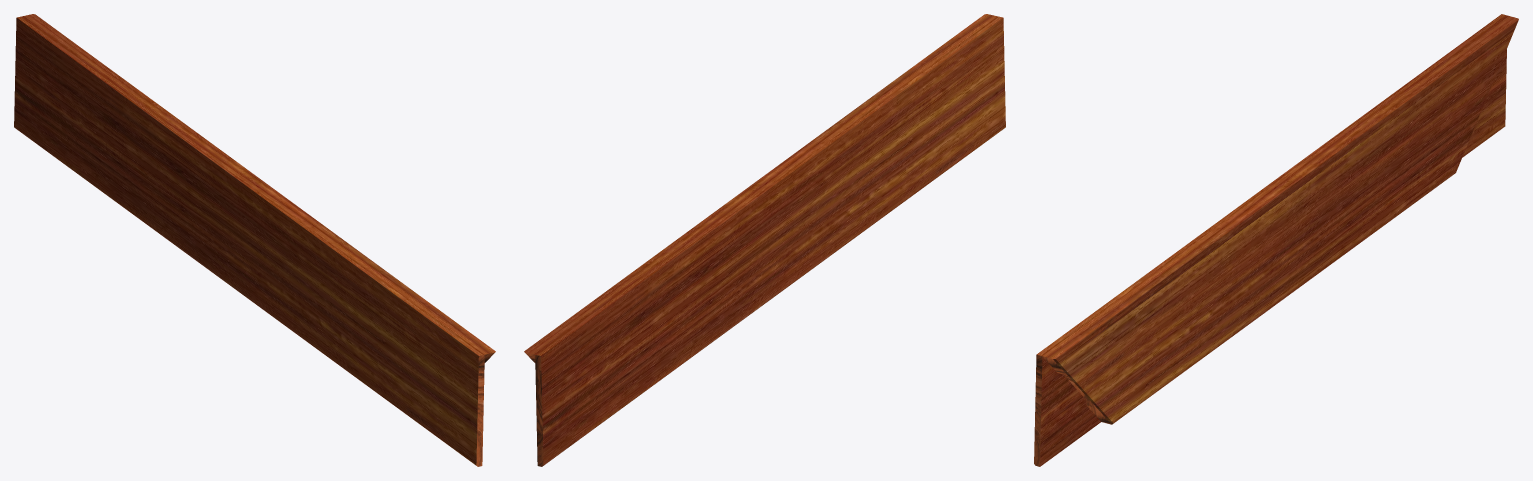
Rendered from GMY_J_houyatou_01_02.FBX.
The picture shows the model from 3 angles, left to right: view 1: azimuth 30°, elevation 25°; view 2: azimuth 150°, elevation 25°; view 3: azimuth 330°, elevation 25°; orthographic projection.
Visible parts, largest first — view 1: GMY_J_houyatou_01_02; view 2: GMY_J_houyatou_01_02; view 3: GMY_J_houyatou_01_02.
Boxes of the visible parts, x1,y1,x2,y2 form: GMY_J_houyatou_01_02: [14, 14, 495, 466]; GMY_J_houyatou_01_02: [524, 14, 1005, 466]; GMY_J_houyatou_01_02: [1034, 14, 1518, 466].
Size of the model in its own units: 0.9076 by 4.72 by 35.59.
